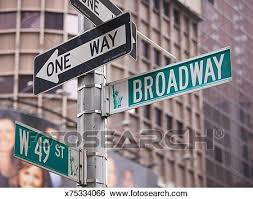oneWay: (30, 8, 129, 99)
